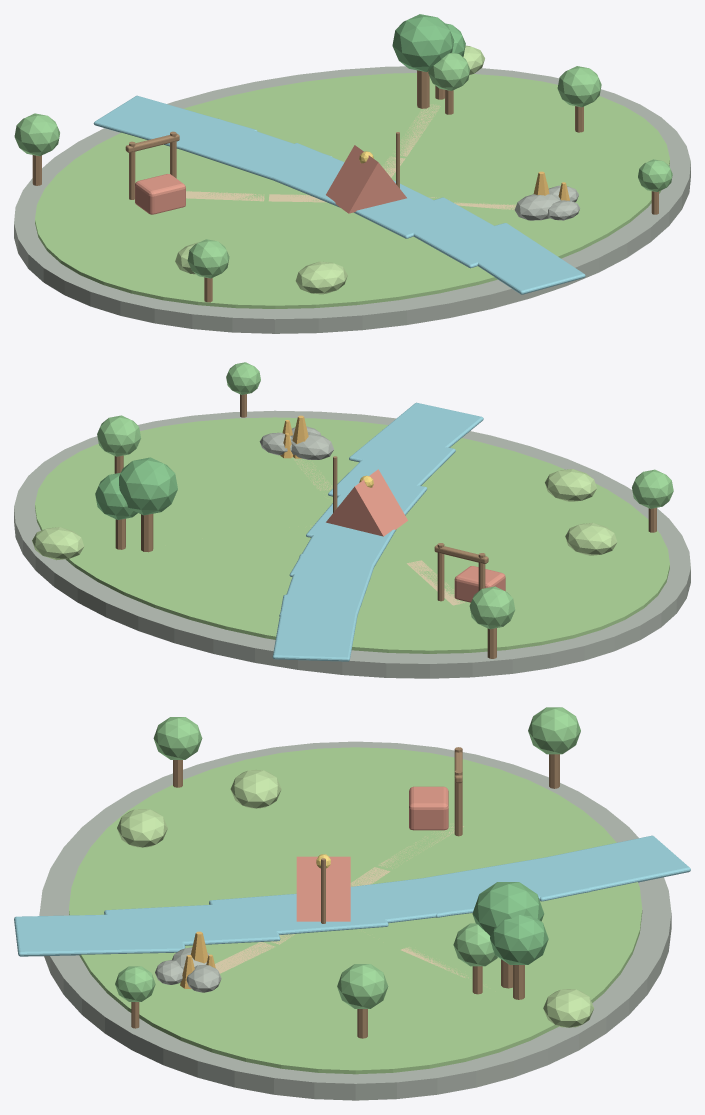
Rendered from dispatch-map.glb.
The picture shows the model from 3 angles, top to bottom: view 1: azimuth 30°, elevation 25°; view 2: azimuth 150°, elevation 25°; view 3: azimuth 270°, elevation 25°; orthographic projection. The views are drawn at different scales.
Visible parts, largest first — view 1: MapLand, MapBase, River_1, River_4, River_0, River_5, MapCampTent, ForestTree_0_Crown, RoadCargo, River_3, EdgeTree_0_Crown, River_2 (+9 smaller); view 2: MapLand, MapBase, River_5, River_0, River_1, River_4, River_2, MapCampTent, ForestTree_0_Crown, EdgeTree_0_Crown, River_3, EdgeTree_2_Crown (+10 smaller); view 3: MapLand, MapBase, River_0, River_5, River_4, River_2, River_3, River_1, MapCampTent, ForestTree_0_Crown, ForestTree_1_Crown, EdgeTree_0_Crown (+10 smaller).
Part boxes in pixels (x1,y1,x2,y2): MapLand: [35, 73, 669, 308]; MapBase: [14, 66, 690, 333]; River_1: [176, 118, 331, 180]; River_4: [385, 197, 528, 268]; River_0: [93, 95, 257, 149]; River_5: [477, 223, 585, 294]; MapCampTent: [326, 145, 406, 213]; ForestTree_0_Crown: [392, 14, 454, 71]; RoadCargo: [135, 174, 185, 214]; River_3: [314, 180, 433, 238]; EdgeTree_0_Crown: [14, 113, 59, 156]; River_2: [272, 143, 344, 207]; MapLand: [35, 417, 669, 653]; MapBase: [14, 410, 690, 678]; River_5: [349, 402, 483, 470]; River_0: [272, 594, 357, 661]; River_1: [279, 554, 374, 618]; River_4: [328, 436, 455, 502]; River_2: [289, 514, 396, 580]; MapCampTent: [326, 469, 407, 536]; ForestTree_0_Crown: [119, 457, 177, 515]; EdgeTree_0_Crown: [469, 586, 515, 629]; River_3: [306, 476, 427, 543]; EdgeTree_2_Crown: [97, 415, 140, 456]; MapLand: [69, 747, 642, 1074]; MapBase: [39, 741, 671, 1100]; River_0: [506, 835, 690, 901]; River_5: [14, 913, 185, 956]; River_4: [104, 902, 280, 945]; River_2: [329, 873, 478, 925]; River_3: [209, 888, 388, 934]; River_1: [407, 857, 590, 917]; MapCampTent: [296, 856, 350, 921]; ForestTree_0_Crown: [472, 882, 544, 935]; ForestTree_1_Crown: [490, 915, 548, 964]; EdgeTree_0_Crown: [528, 707, 580, 754].
Bounding box in the file's own units: 11.4 × 1.89 × 9.53.
